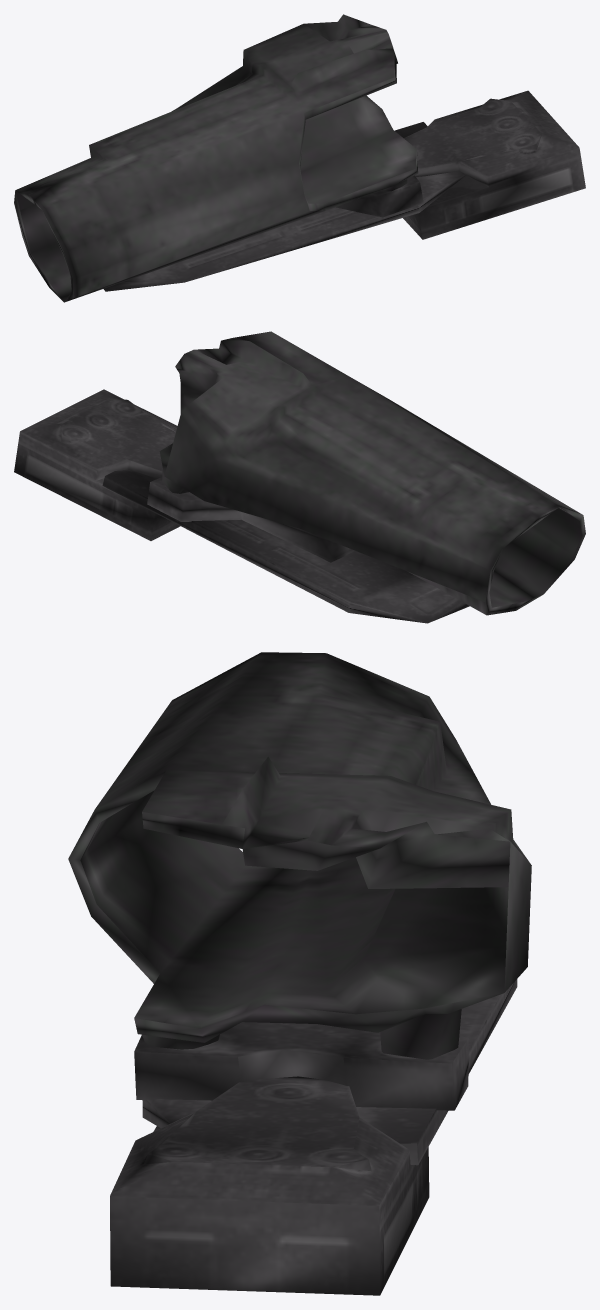
The model's file is TaskForceHolster_Ground.fbx.
3 renders of one model, top to bottom at view 1: azimuth 30°, elevation 25°; view 2: azimuth 150°, elevation 25°; view 3: azimuth 270°, elevation 25°, orthographic. The views are drawn at different scales.
Visible parts, largest first — view 1: Holster - DONE; view 2: Holster - DONE; view 3: Holster - DONE.
Boxes of the visible parts, box(x1,y1,x2,y2) form: Holster - DONE: box(14, 14, 585, 302); Holster - DONE: box(14, 331, 585, 623); Holster - DONE: box(68, 652, 531, 1295).
Bounding box in the file's own units: 0.1378 × 0.049 × 0.0534.
